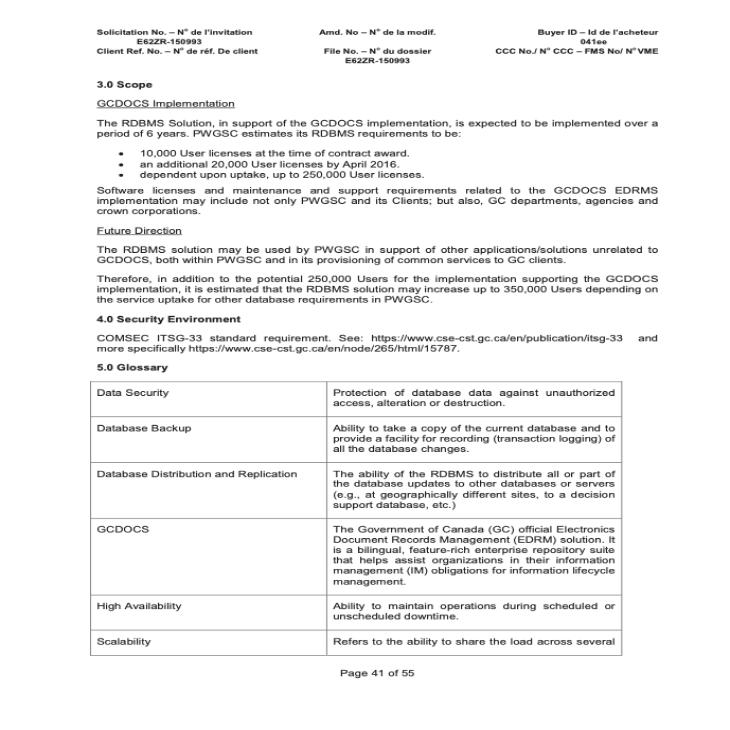cell: (328, 520, 622, 596), (90, 520, 329, 596), (328, 462, 624, 521), (328, 418, 623, 465), (90, 464, 328, 519), (328, 379, 624, 420), (329, 595, 623, 632), (89, 419, 328, 464), (88, 379, 329, 419), (89, 597, 329, 632), (327, 632, 622, 656), (91, 631, 327, 656)
tabulation: (81, 374, 626, 660)
